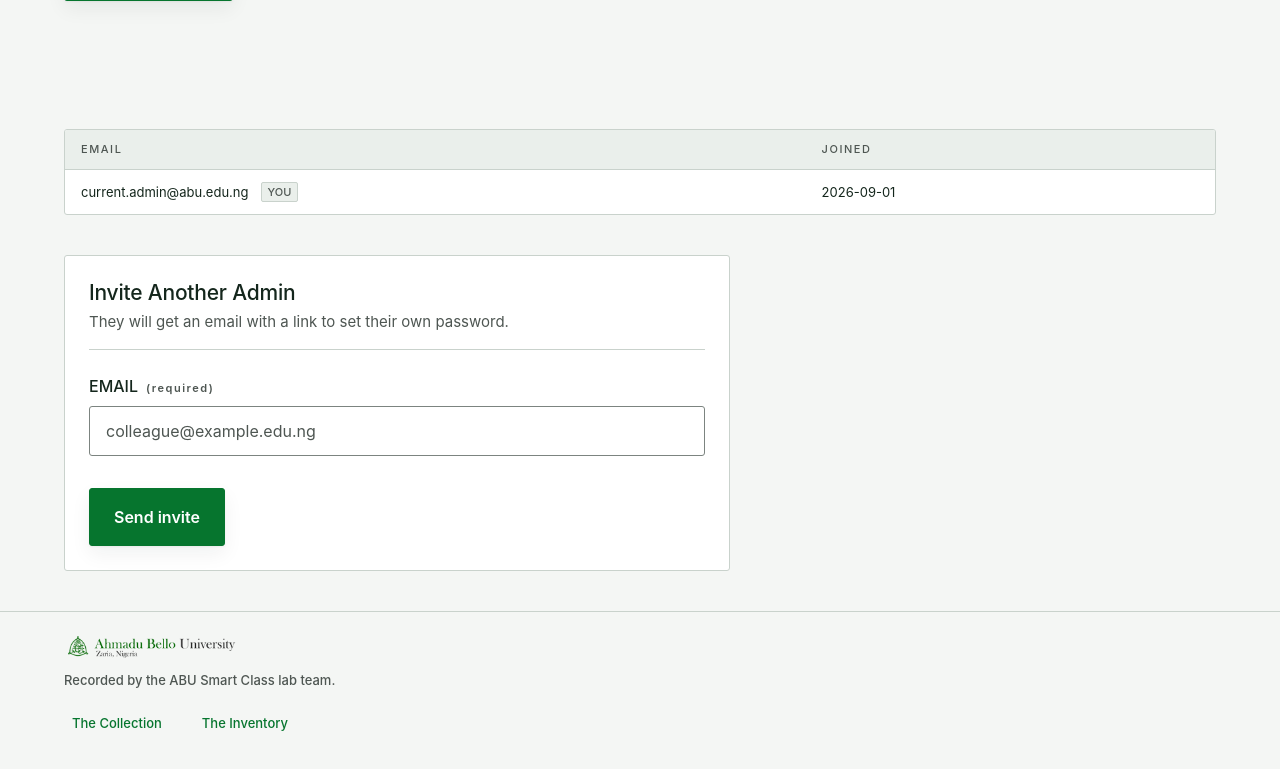
S-05 Challenger Suite — M2 Pre-Agreed Seams › Seam 1: S-008 Admin Team Management & Invites (app/admin/admins/page.tsx & lib/admin-api.ts) › invite delivery failure (502 gmail-send-failed) displays caution banner and preserves typed email in input
(page scrolled)
In the field with placeholder "colleague@example.edu.ng": (397, 431) [89, 406, 705, 456], type "retry.recipient@abu.edu.ng"
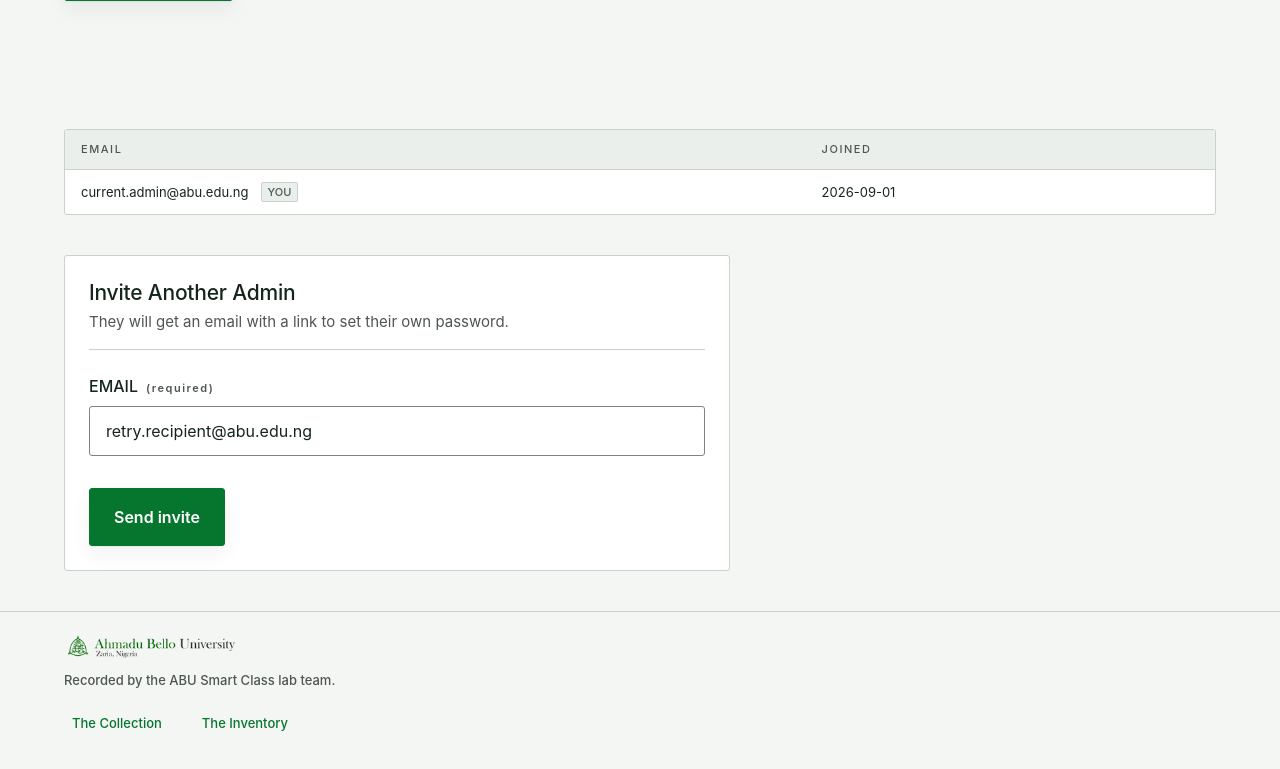
Click the button "Send invite": (157, 517) [89, 488, 225, 546]
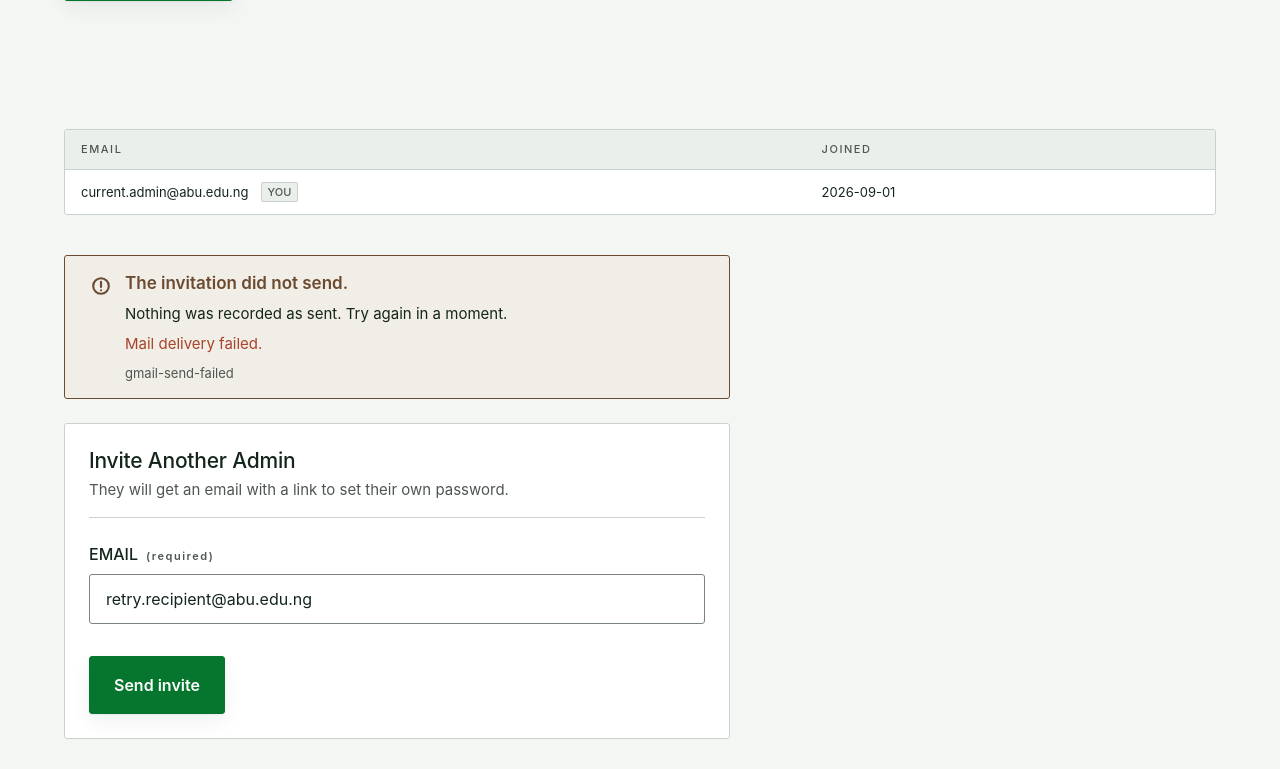
Now the heading "The invitation did not send." is shown, box [125, 273, 348, 293]
Now the text "Mail delivery failed." is shown, box [125, 334, 262, 353]
Now the text "gmail-send-failed" is shown, box [125, 364, 234, 380]
